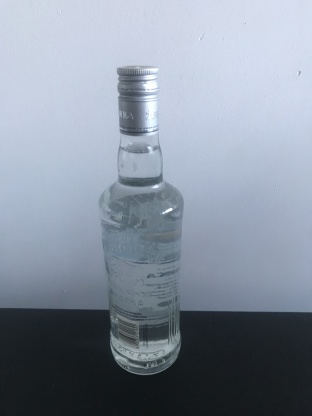nakretka: (115, 63, 160, 138)
